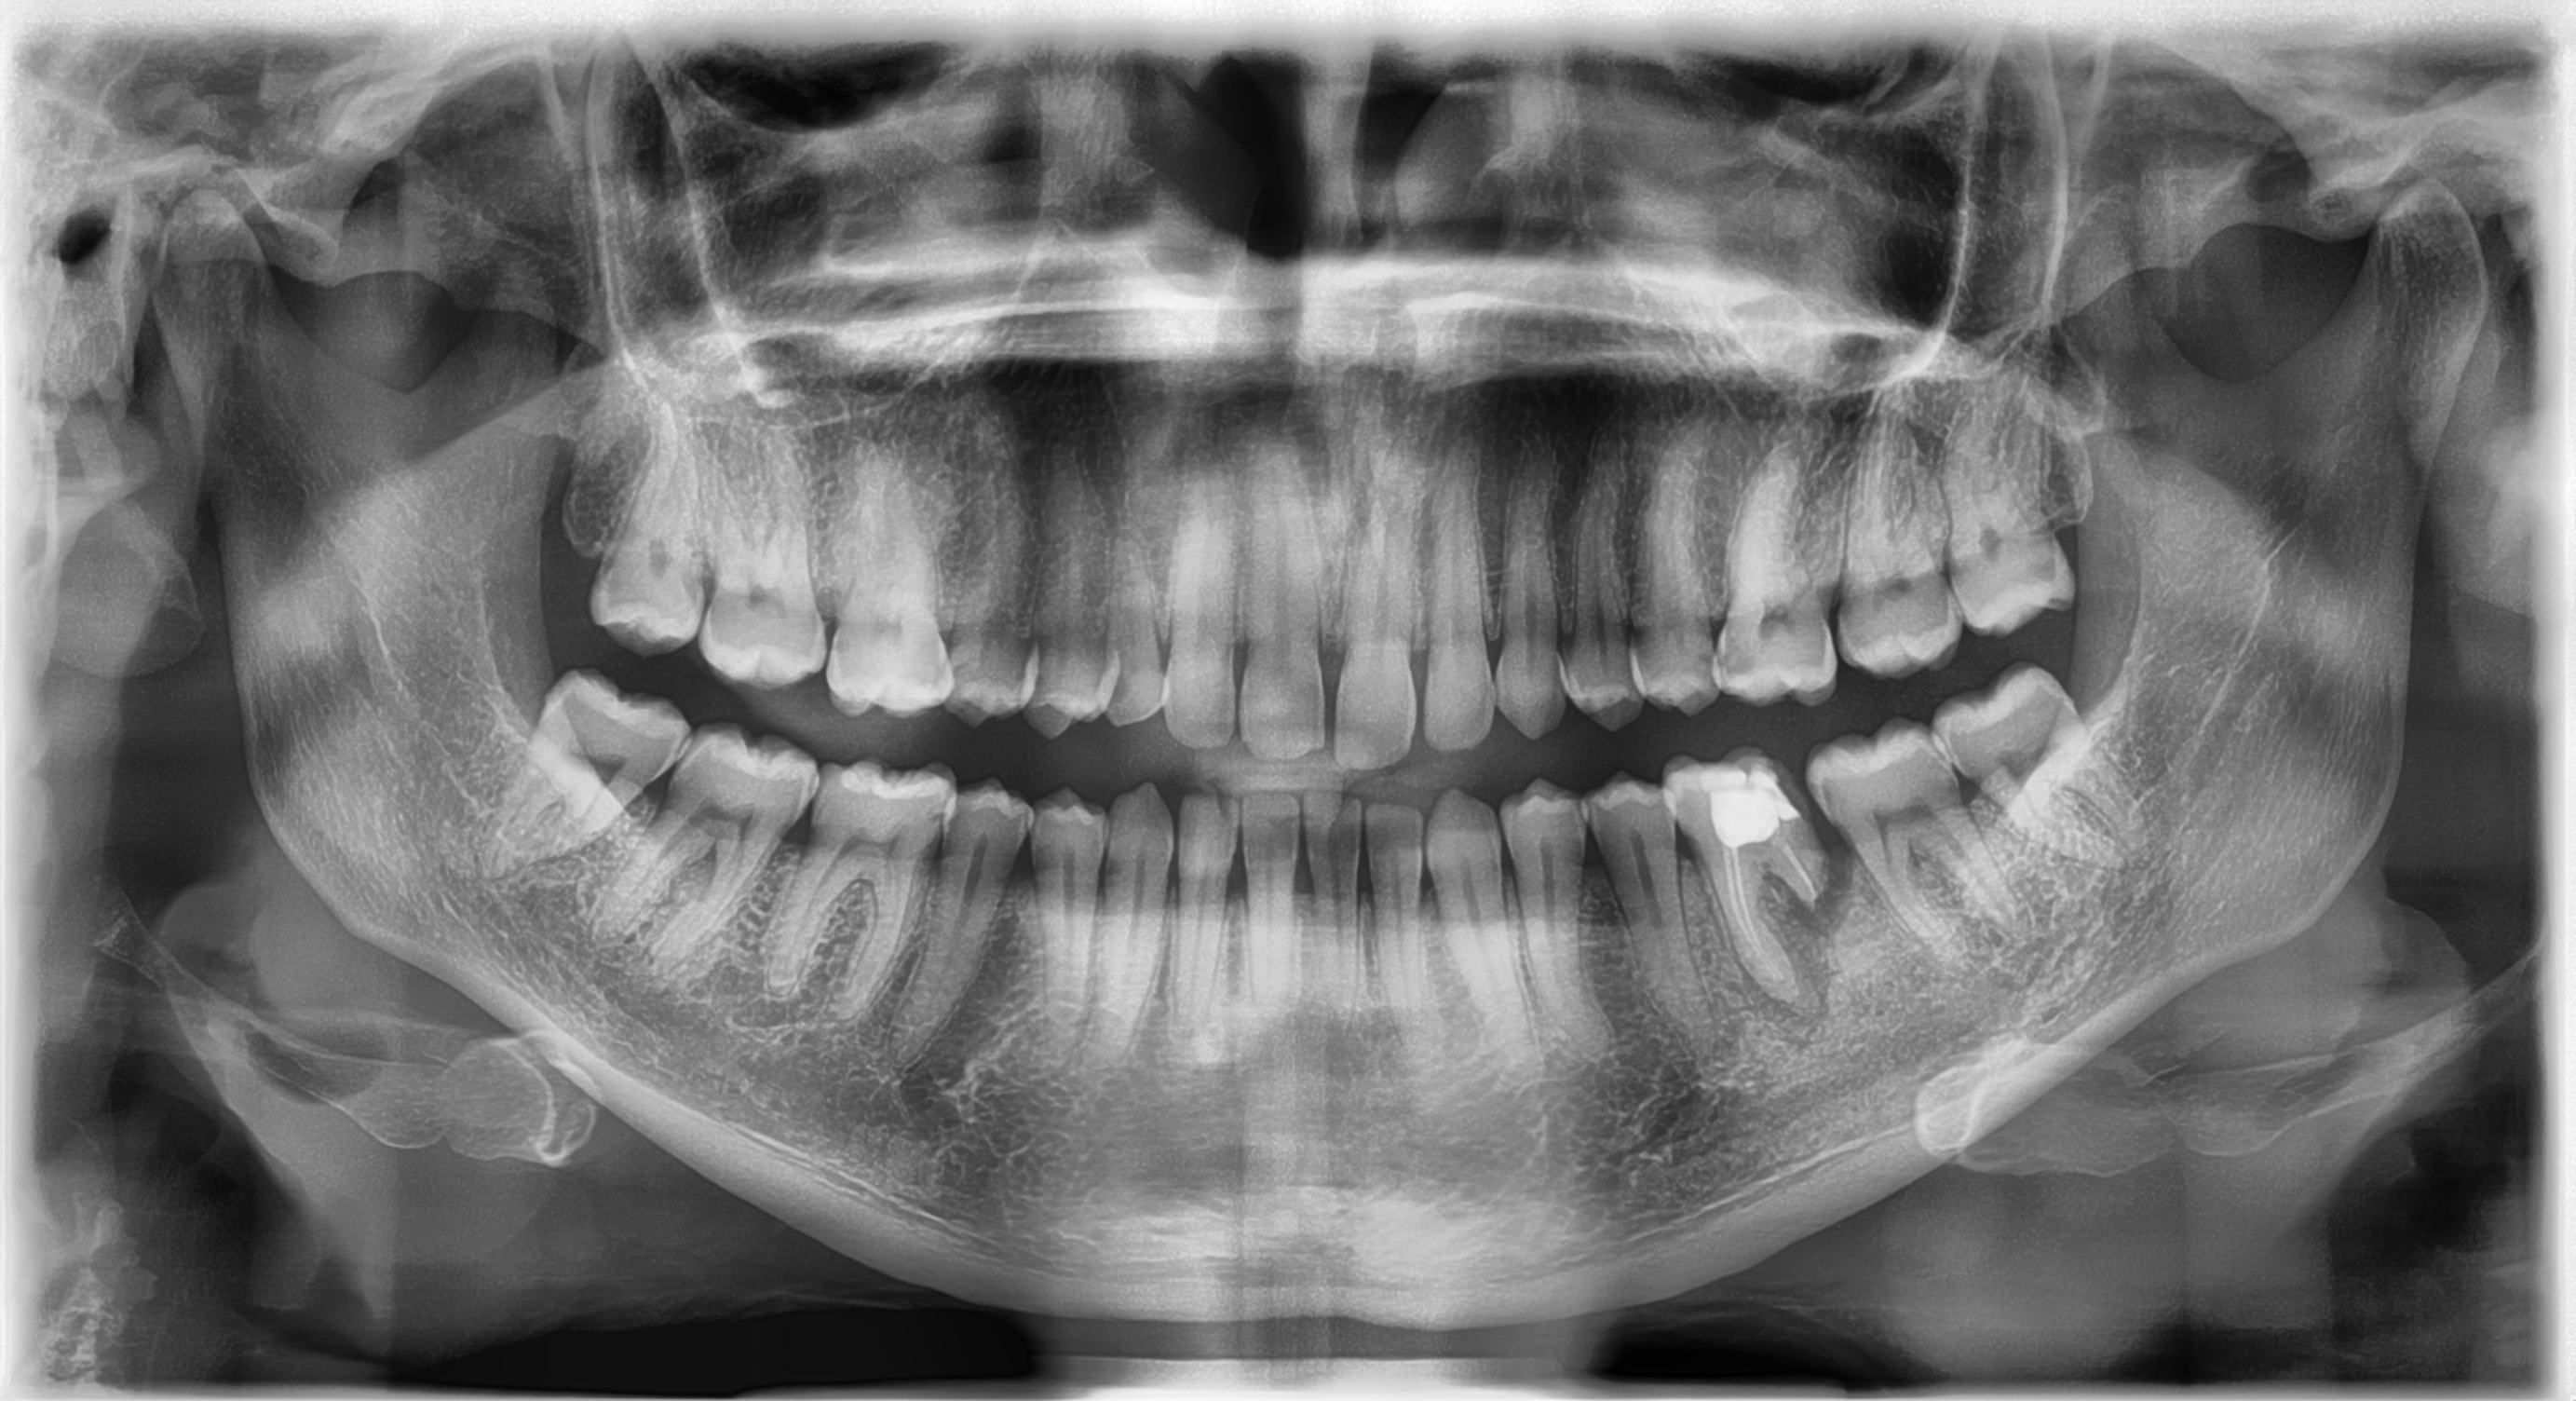cordal: (471, 661, 705, 890), (1936, 668, 2183, 882), (1909, 409, 2128, 640), (562, 393, 724, 656)
tratamiento_conducto: (1652, 733, 1859, 1013)
